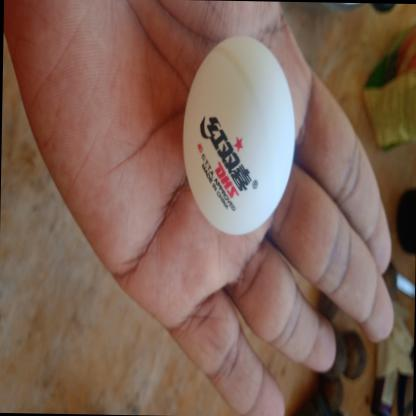Tabel Tennis: (178, 31, 300, 238)
